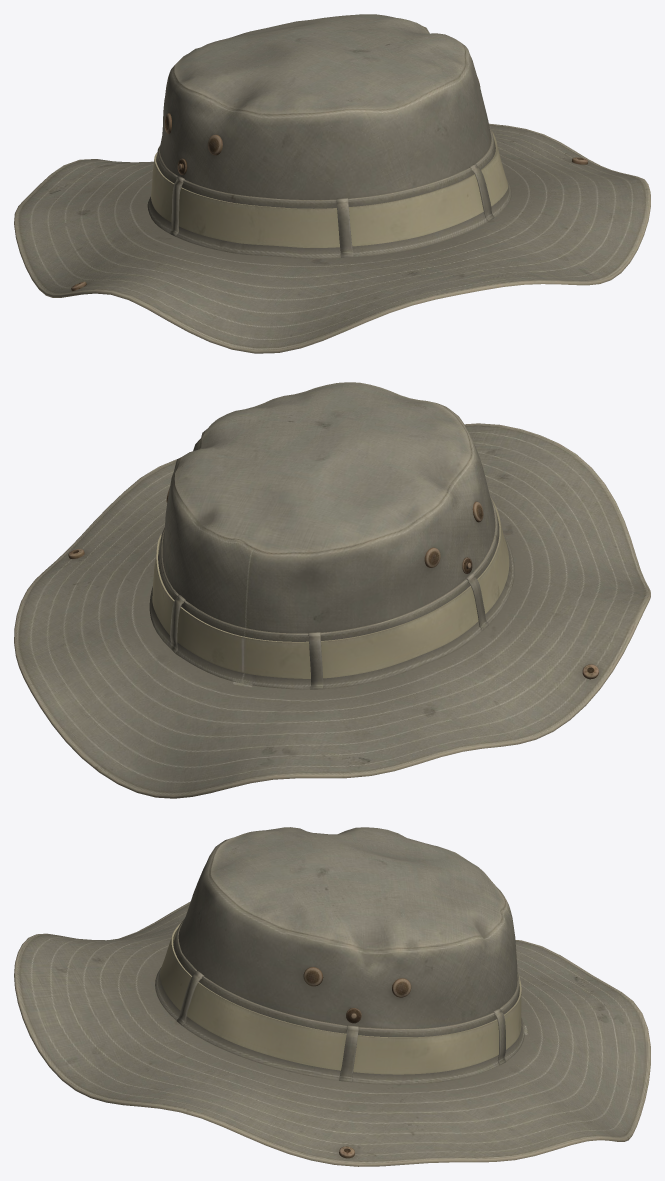
Rendered from topi_nelayan.glb.
The picture shows the model from 3 angles, top to bottom: view 1: azimuth 30°, elevation 25°; view 2: azimuth 150°, elevation 25°; view 3: azimuth 270°, elevation 25°; orthographic projection. The views are drawn at different scales.
Size of the model in its own units: 26 by 11.88 by 27.67.
Materials: 1 (1 with a texture image).
